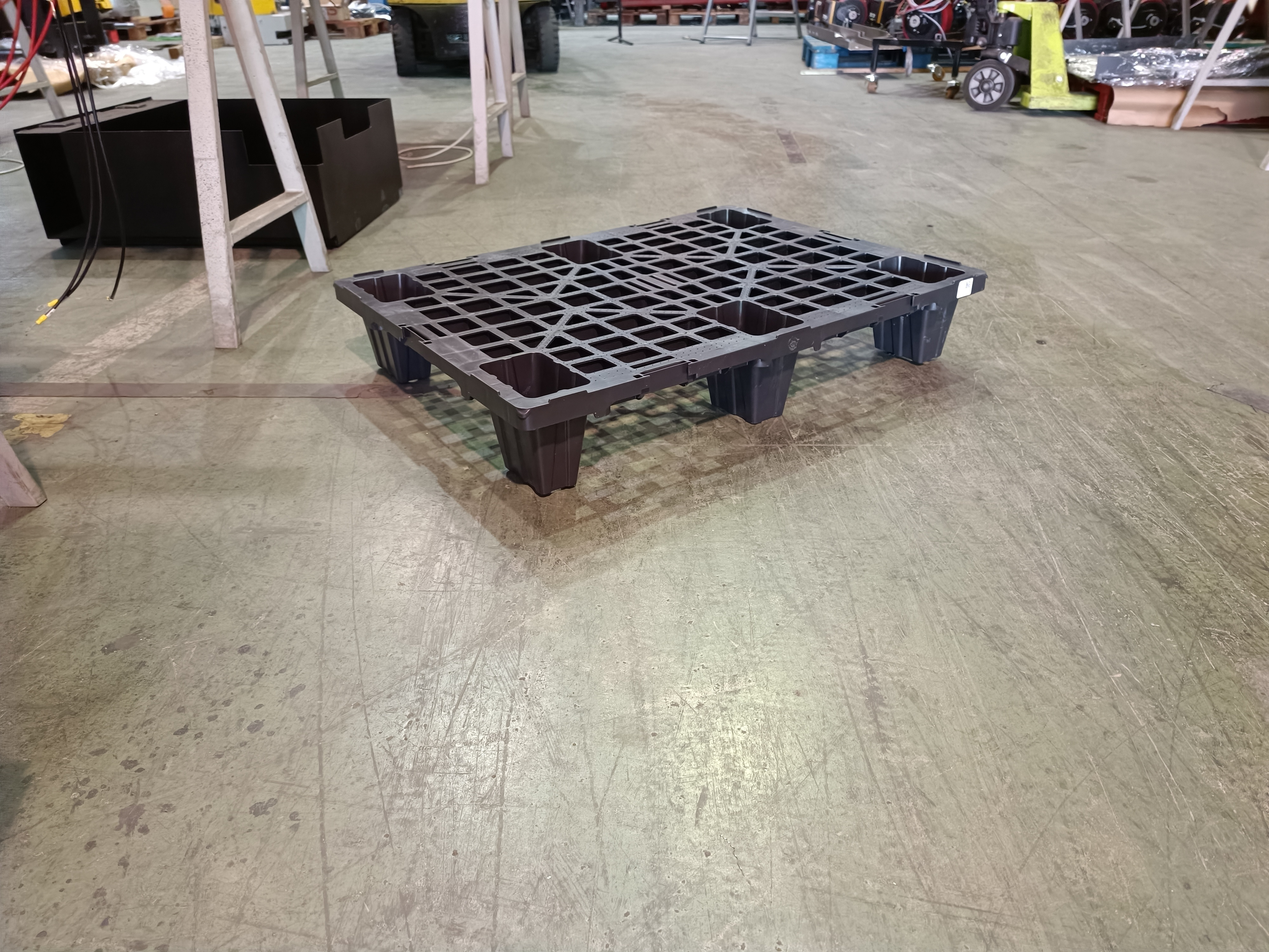block: (489, 407, 593, 501), (863, 290, 964, 364), (704, 346, 791, 425), (363, 318, 431, 383)
front: (525, 271, 1005, 504)
hole pallet: (577, 367, 749, 476), (782, 310, 919, 419)
